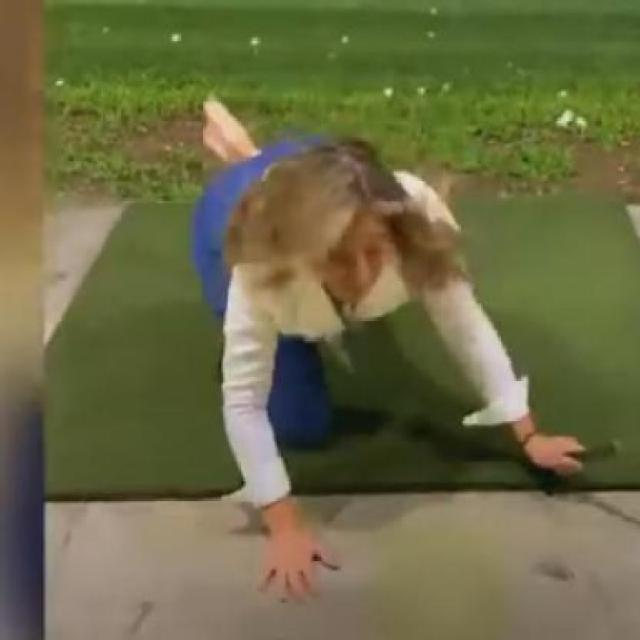fall: (188, 95, 620, 591)
